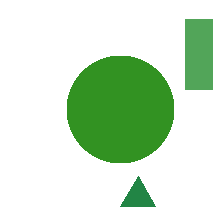circle: (67, 56, 173, 162)
rectangle: (185, 19, 212, 89)
triangle: (120, 176, 155, 206)
